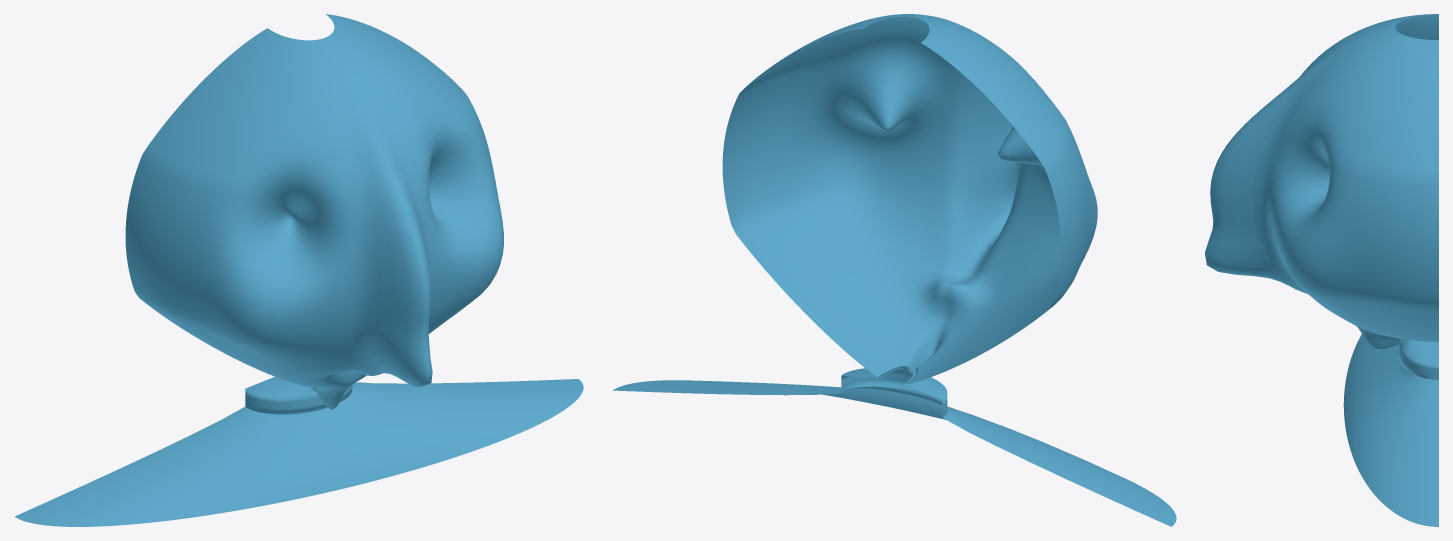
File: jarvis_face.glb
The picture shows the model from 3 angles, left to right: view 1: azimuth 30°, elevation 25°; view 2: azimuth 150°, elevation 25°; view 3: azimuth 270°, elevation 25°; orthographic projection. The views are drawn at different scales.
Visible parts, largest first — view 1: JarvisFaceBust; view 2: JarvisFaceBust; view 3: JarvisFaceBust.
Part boxes in pixels (x1,y1,x2,y2): JarvisFaceBust: (15,14,583,526); JarvisFaceBust: (613,14,1176,526); JarvisFaceBust: (1205,14,1438,526).
Bounding box in the file's own units: 3.3 × 2.39 × 1.34.
